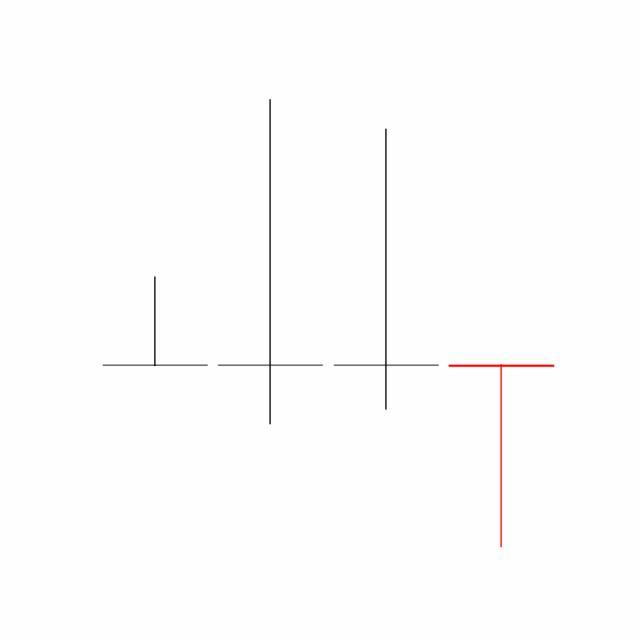Dragonfly Doji: (444, 363, 560, 551)
